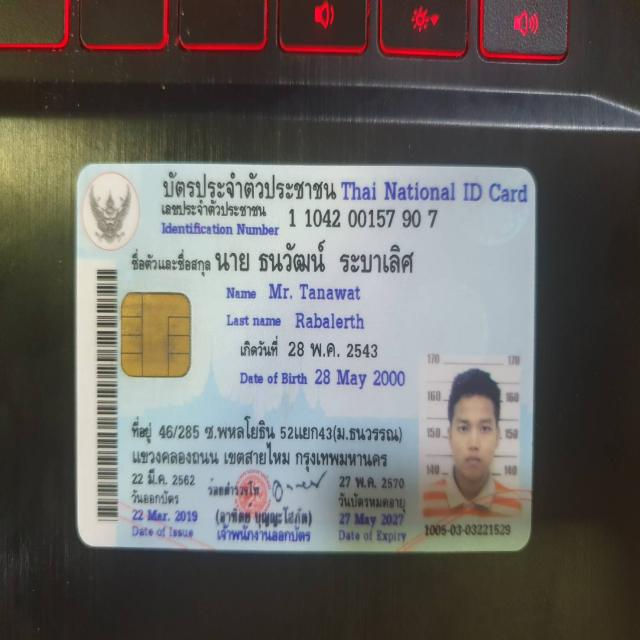Address_th: (128, 412, 405, 472)
Date_of_Birth: (310, 360, 412, 396)
Date_of_Expiry: (336, 508, 409, 532)
Date_of_Issue: (129, 502, 201, 524)
First_Name: (264, 276, 364, 306)
ID_Number: (283, 202, 443, 238)
Image: (421, 353, 523, 525)
Last_Name: (290, 308, 370, 336)
Thai_Name: (212, 236, 418, 276)
